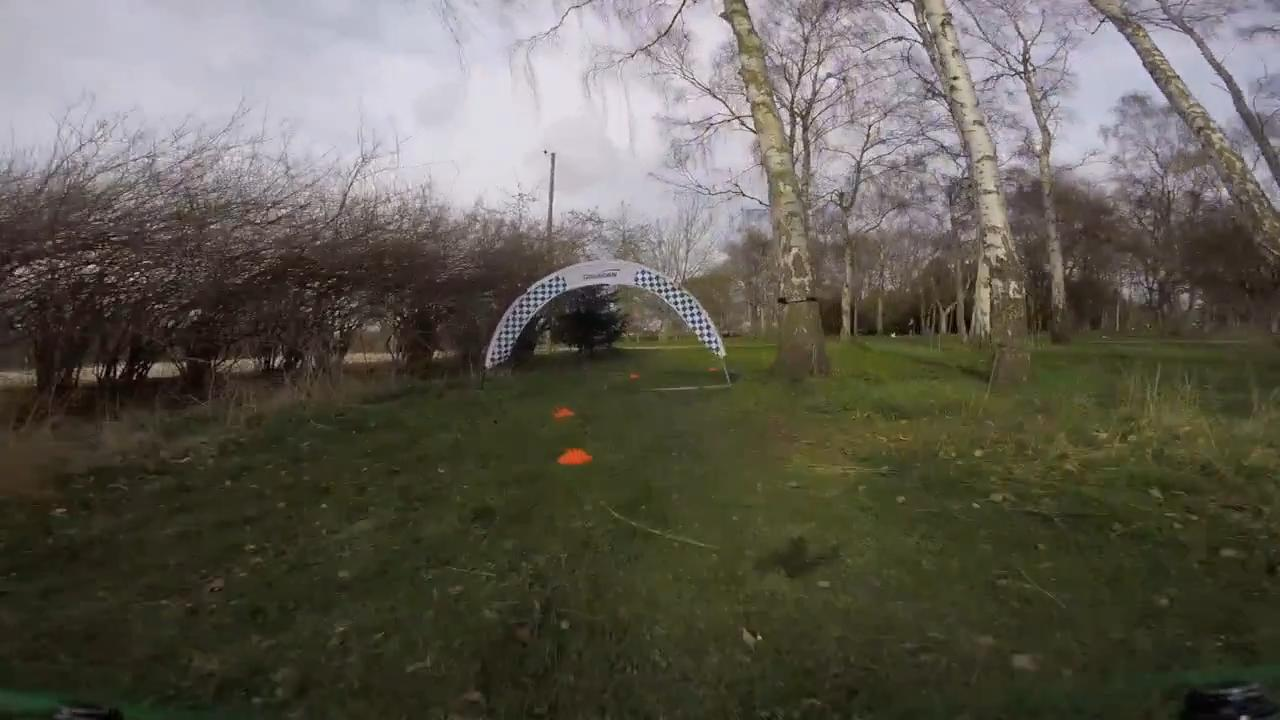gate: (486, 259, 729, 367)
